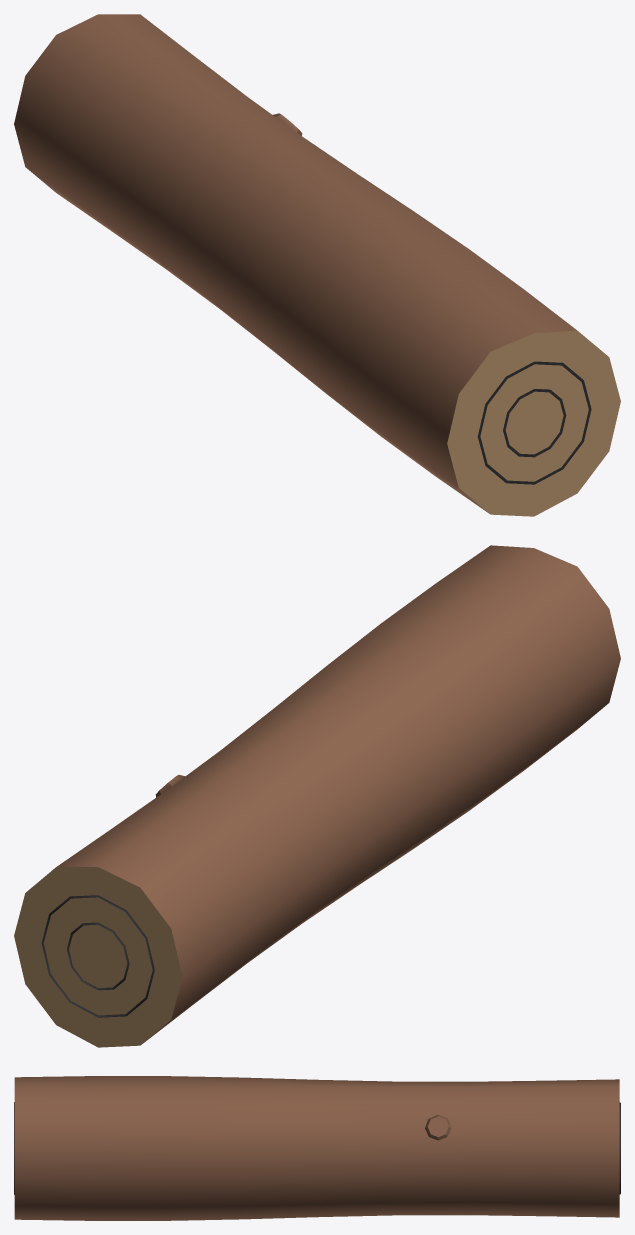
Rendered from log.glb.
The picture shows the model from 3 angles, top to bottom: view 1: azimuth 30°, elevation 25°; view 2: azimuth 150°, elevation 25°; view 3: azimuth 270°, elevation 25°; orthographic projection. The views are drawn at different scales.
Visible parts, largest first — view 1: PART; view 2: PART; view 3: PART.
Boxes of the visible parts, x1=… form: PART: x1=14, y1=14, x2=620, y2=516; PART: x1=14, y1=545, x2=620, y2=1047; PART: x1=14, y1=1076, x2=620, y2=1220.
Bounding box in the file's own units: 0.35 × 0.35 × 1.5.
